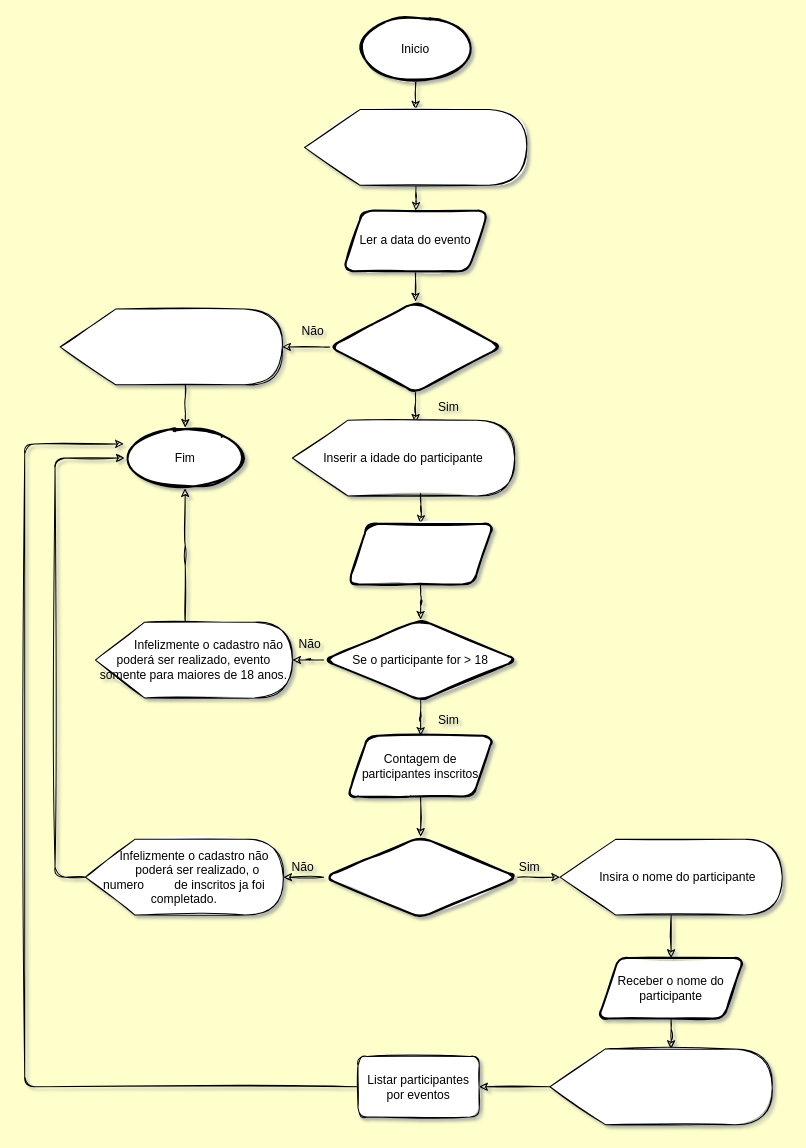
Image size: 806x1148. Some labels were removed from this diagram. The centre of each missing label's shape, as x and y in pixels:
"Infelizmente o evento nao podera ser realizado, data inválida." goes at (x=170, y=346).
"Insira um data do evento" goes at (x=415, y=147).
"Ler idade do participante" goes at (x=420, y=553).
"Se a data do evento > hoje" goes at (x=415, y=346).
"Se a quantidade de participantes < 100" goes at (x=420, y=876).
"Seu cadastro foi realizado com sucesso!" goes at (x=660, y=1086).
